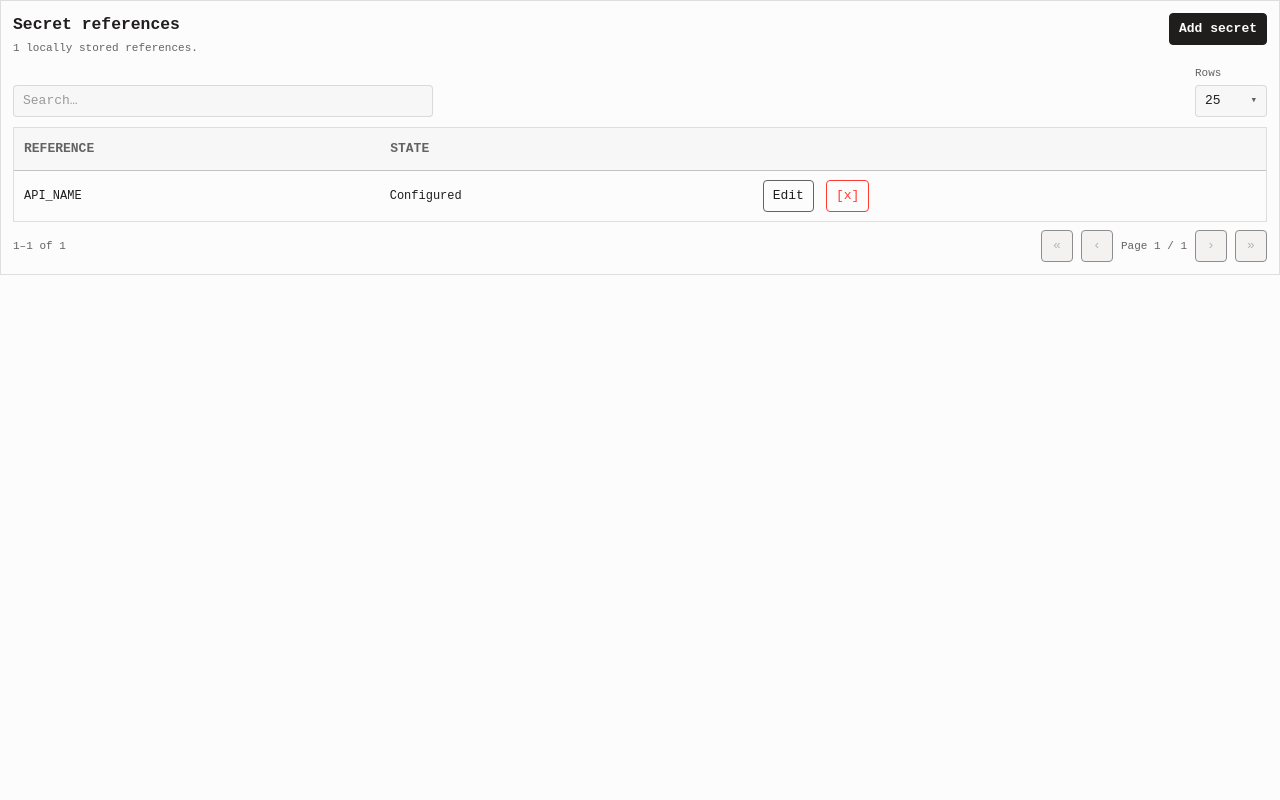
Test: edit replaces only the value of an existing reference and confirms with a toast
Click the button with aria-label "Edit API_NAME". click: (788,196)
box: x1=763 y1=180 x2=814 y2=212
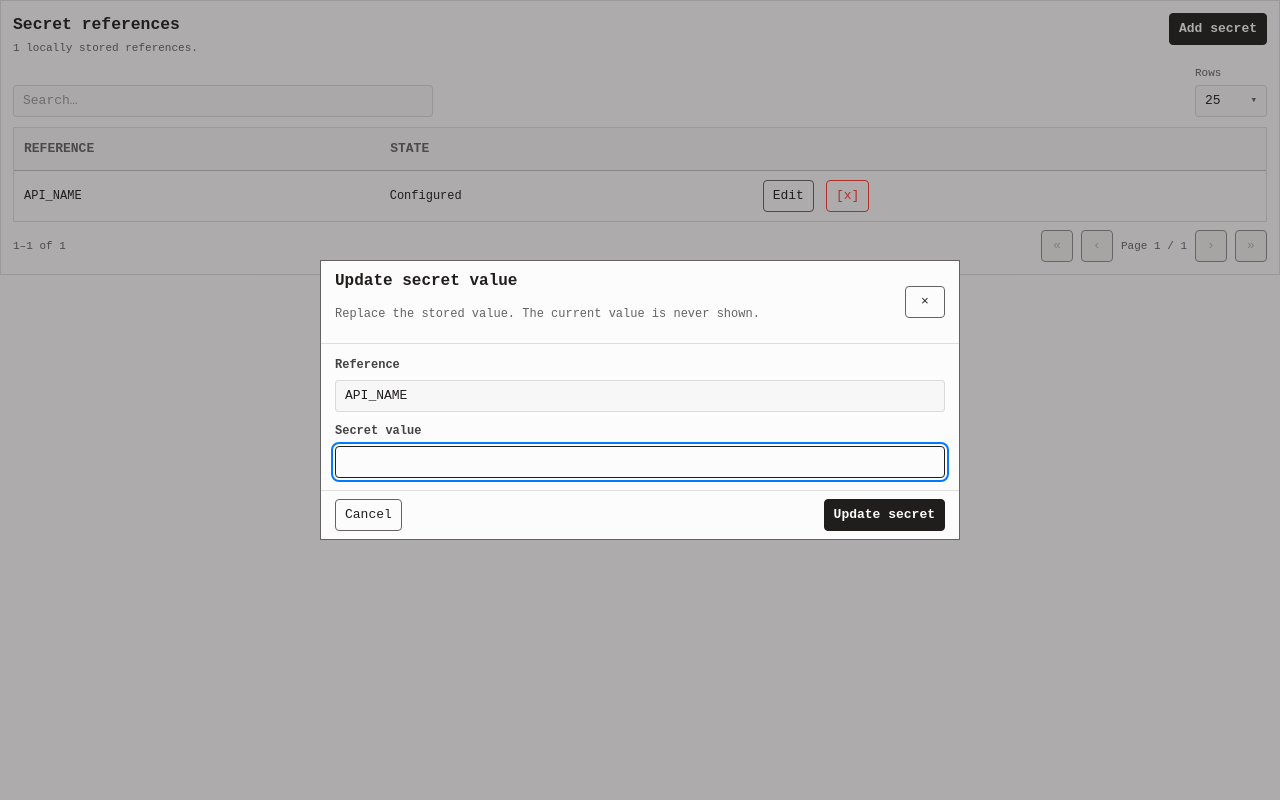
Now the field labelled "Reference" holds "API_NAME", box x1=335 y1=380 x2=945 y2=412
Type "replacement phrase" into the password field labelled "Secret value". click: (640,462)
box: x1=335 y1=446 x2=945 y2=478
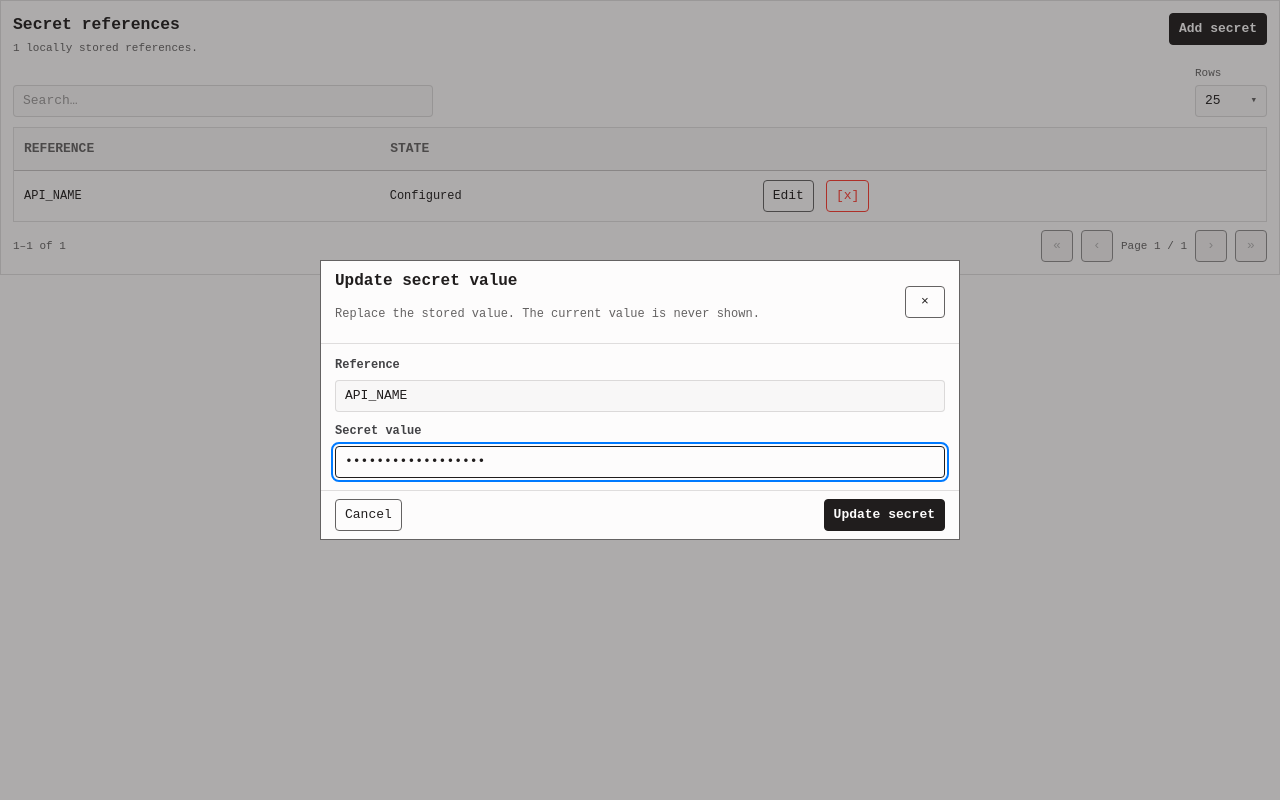
Click the button "Update secret". click: (884,515)
box: x1=824 y1=499 x2=945 y2=531
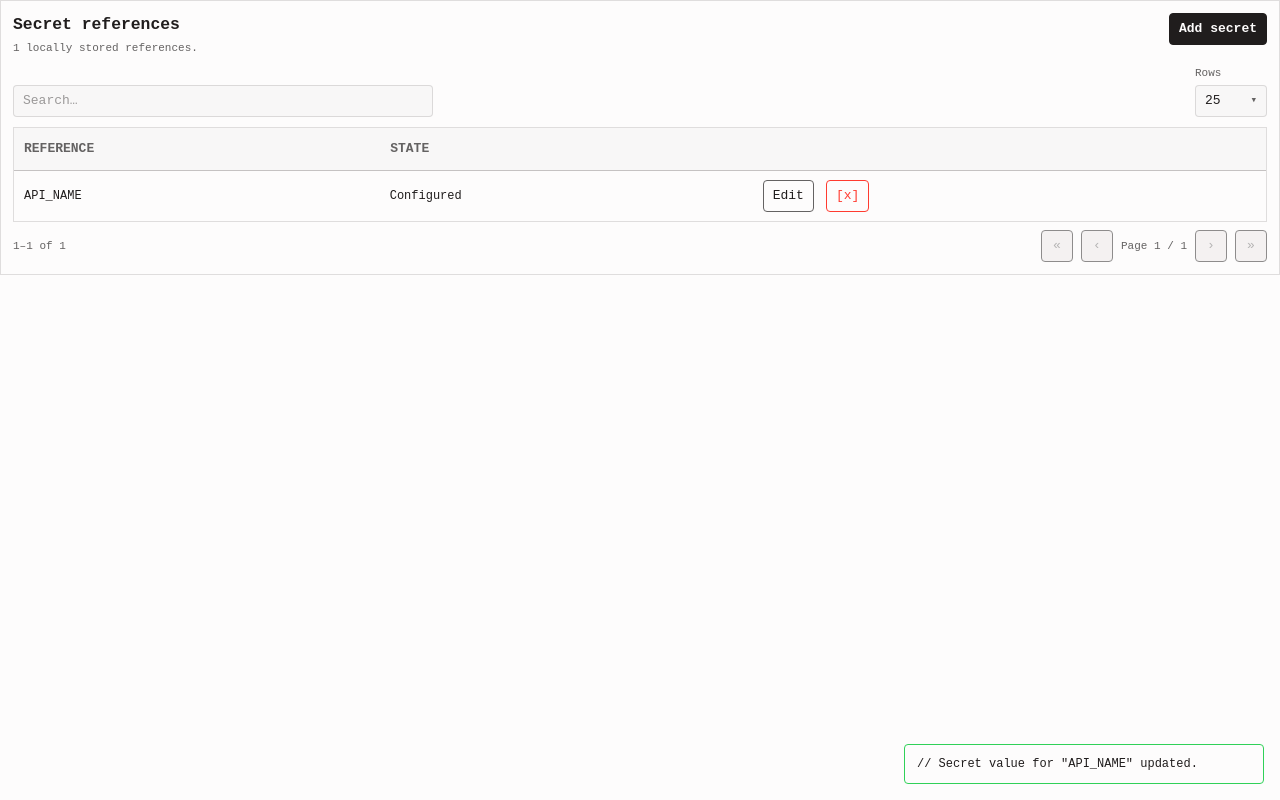
Now the message reads "Secret value for \"API_NAME\" updated.", box x1=939 y1=757 x2=1198 y2=771
Now the dialog is gone
